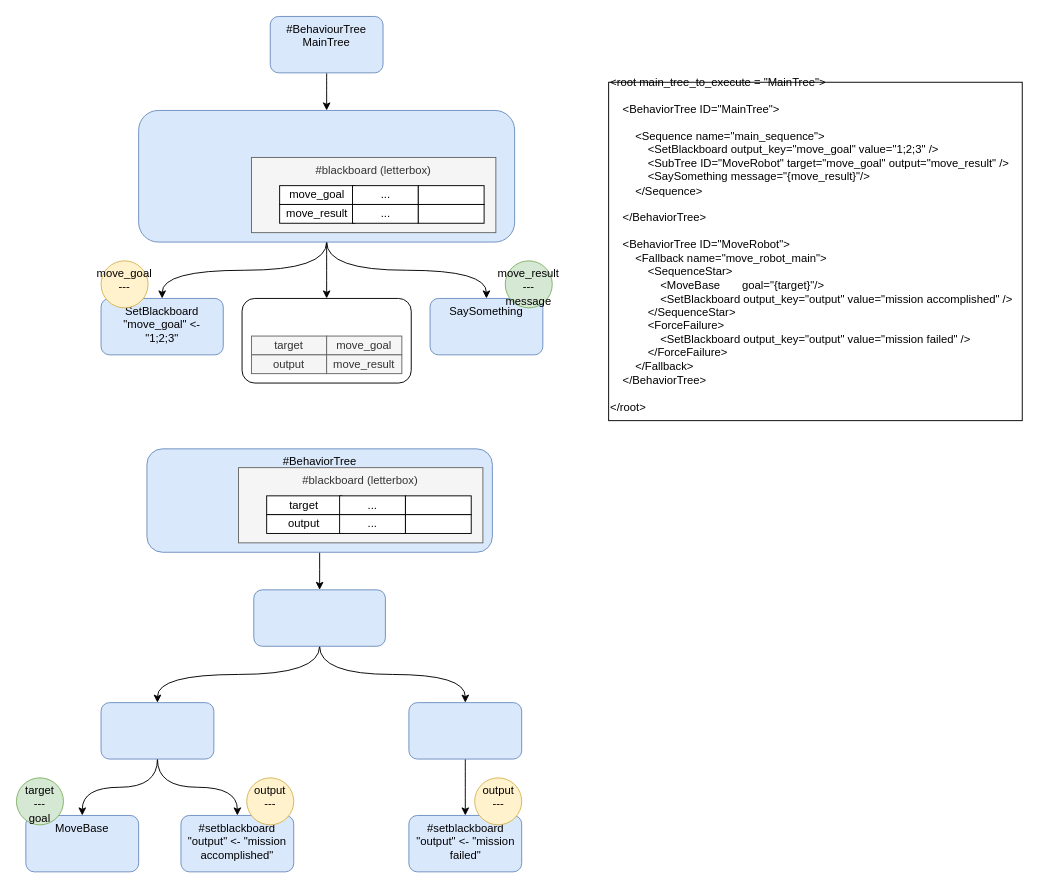
This 1039x888 diagram has some shape labels left out. The box of each missing label's shape, as (x1, y1, x2, y2) in pixels:
#fallback move_robot_main: (253, 589, 385, 646)
#sequence main_sequence: (138, 110, 515, 242)
#sequencestar: (100, 702, 214, 759)
#subtree MoveRobot: (241, 298, 411, 383)
ForceFailure: (408, 702, 522, 759)
